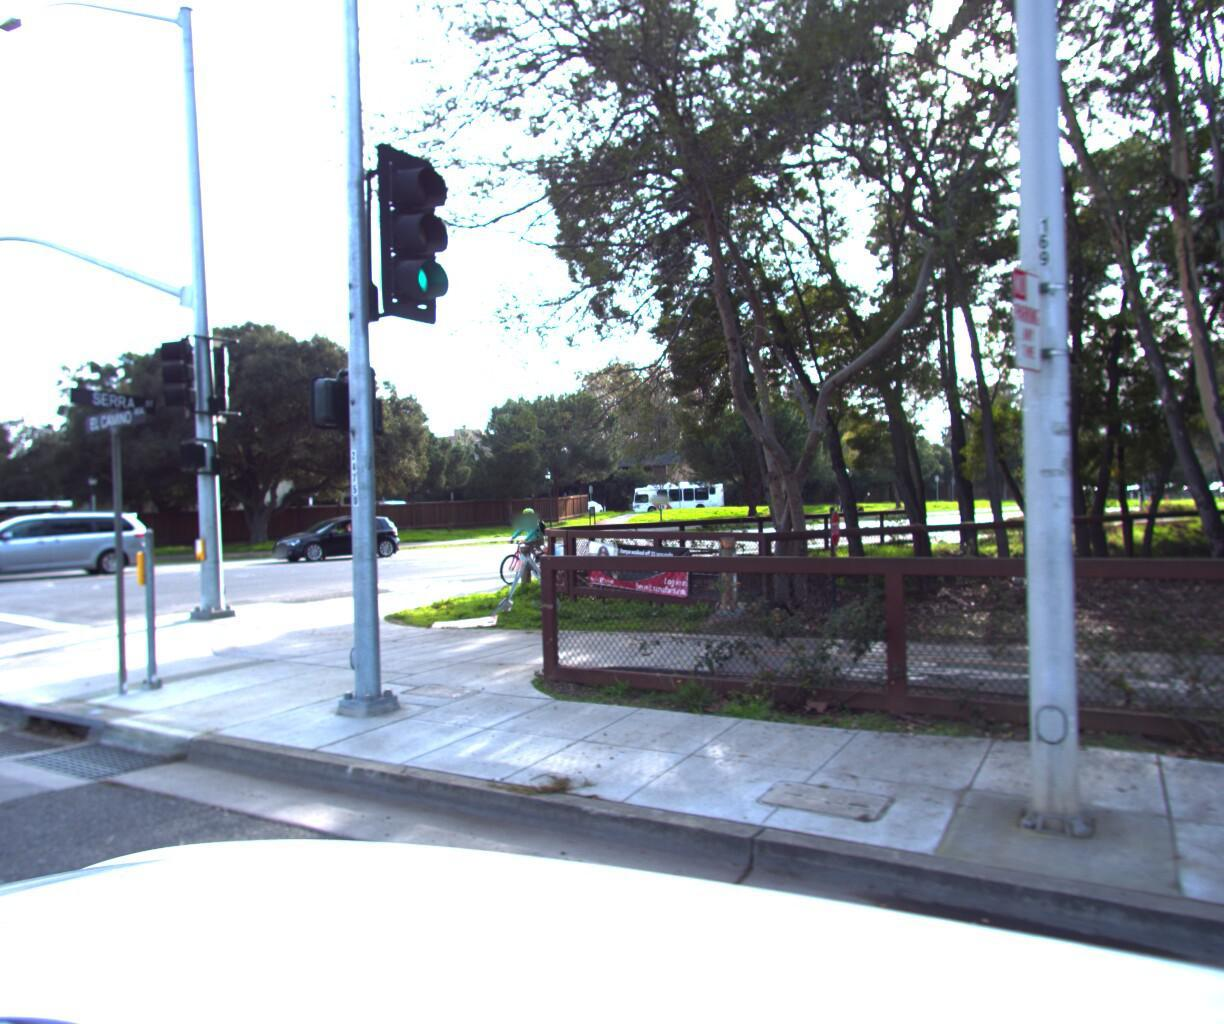bicycle: (486, 503, 567, 582)
bus: (628, 476, 730, 513)
car: (0, 509, 155, 590), (258, 510, 400, 566), (0, 499, 79, 586), (567, 497, 605, 516)
